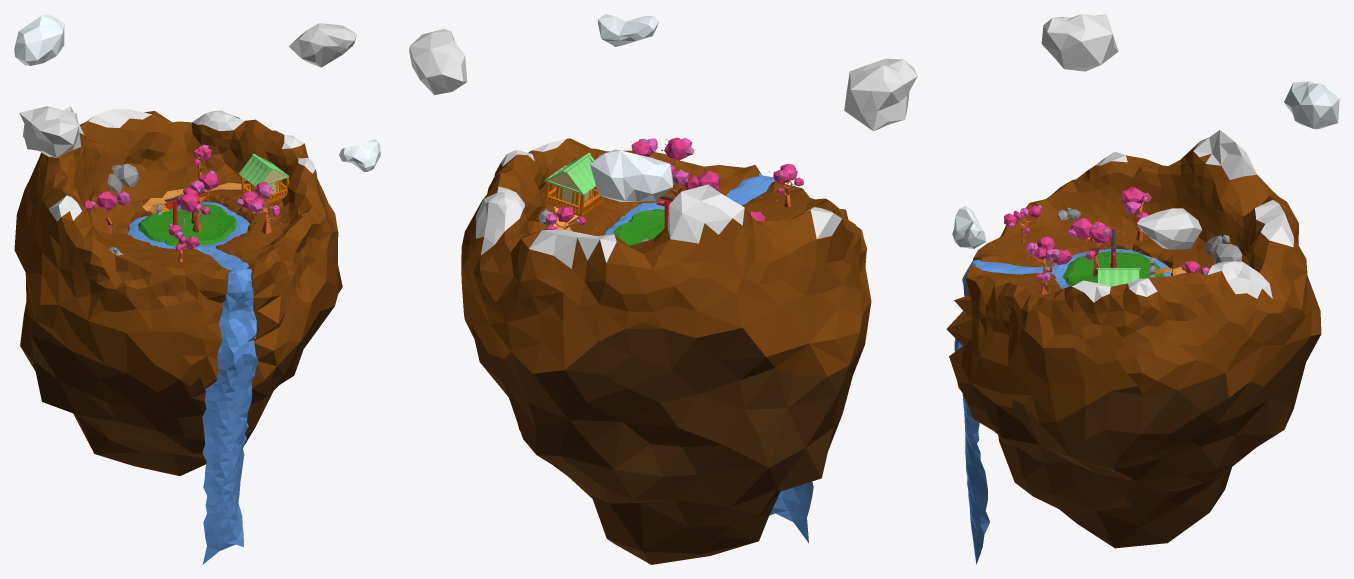
The model's file is IslaDEf.fbx.
3 renders of one model, left to right at view 1: azimuth 30°, elevation 25°; view 2: azimuth 150°, elevation 25°; view 3: azimuth 270°, elevation 25°, orthographic. The views are drawn at different scales.
Visible parts, largest first — view 1: Isla, Agua, Icosphere.001, Hojas, Icosphere, Icosphere.002, Casa, Hojas.001, Icosphere.003, Roca; view 2: Isla, Icosphere.001, Icosphere, Icosphere.002, Agua, Hojas, Icosphere.003, Casa, Hojas.001, Cube.001; view 3: Isla, Agua, Icosphere.001, Hojas, Icosphere, Icosphere.002, Icosphere.003, Hojas.001, Roca, Casa.
Part boxes in pixels (left/top/right/bottom): Isla: left=14, top=106, right=342, bottom=475; Agua: left=128, top=202, right=258, bottom=564; Icosphere.001: left=19, top=106, right=81, bottom=158; Hojas: left=83, top=144, right=280, bottom=250; Icosphere: left=14, top=14, right=64, bottom=65; Icosphere.002: left=289, top=23, right=356, bottom=67; Casa: left=239, top=153, right=288, bottom=186; Hojas.001: left=176, top=170, right=218, bottom=214; Icosphere.003: left=339, top=139, right=380, bottom=171; Roca: left=107, top=163, right=139, bottom=192; Isla: left=461, top=138, right=871, bottom=564; Icosphere.001: left=844, top=58, right=917, bottom=131; Icosphere: left=590, top=149, right=673, bottom=201; Icosphere.002: left=409, top=29, right=467, bottom=94; Agua: left=604, top=173, right=813, bottom=542; Hojas: left=545, top=137, right=803, bottom=229; Icosphere.003: left=597, top=14, right=658, bottom=46; Casa: left=544, top=152, right=595, bottom=194; Hojas.001: left=664, top=161, right=719, bottom=196; Cube.001: left=544, top=182, right=603, bottom=216; Isla: left=946, top=130, right=1321, bottom=548; Agua: left=954, top=248, right=1171, bottom=564; Icosphere.001: left=1041, top=14, right=1118, bottom=71; Hojas: left=1004, top=186, right=1209, bottom=281; Icosphere: left=1284, top=81, right=1339, bottom=129; Icosphere.002: left=1137, top=208, right=1201, bottom=249; Icosphere.003: left=952, top=206, right=986, bottom=248; Hojas.001: left=1068, top=218, right=1112, bottom=259; Roca: left=1205, top=234, right=1241, bottom=263; Casa: left=1096, top=268, right=1140, bottom=286.
Bounding box in the file's own units: 1406 × 1665 × 1225.
